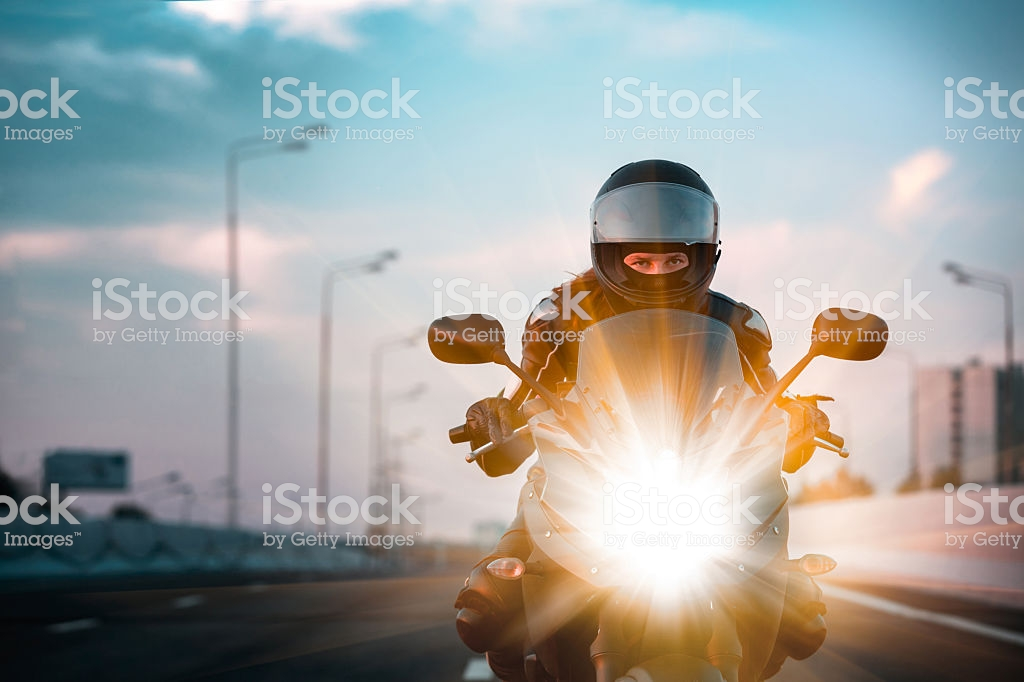helmet: (571, 147, 729, 319)
